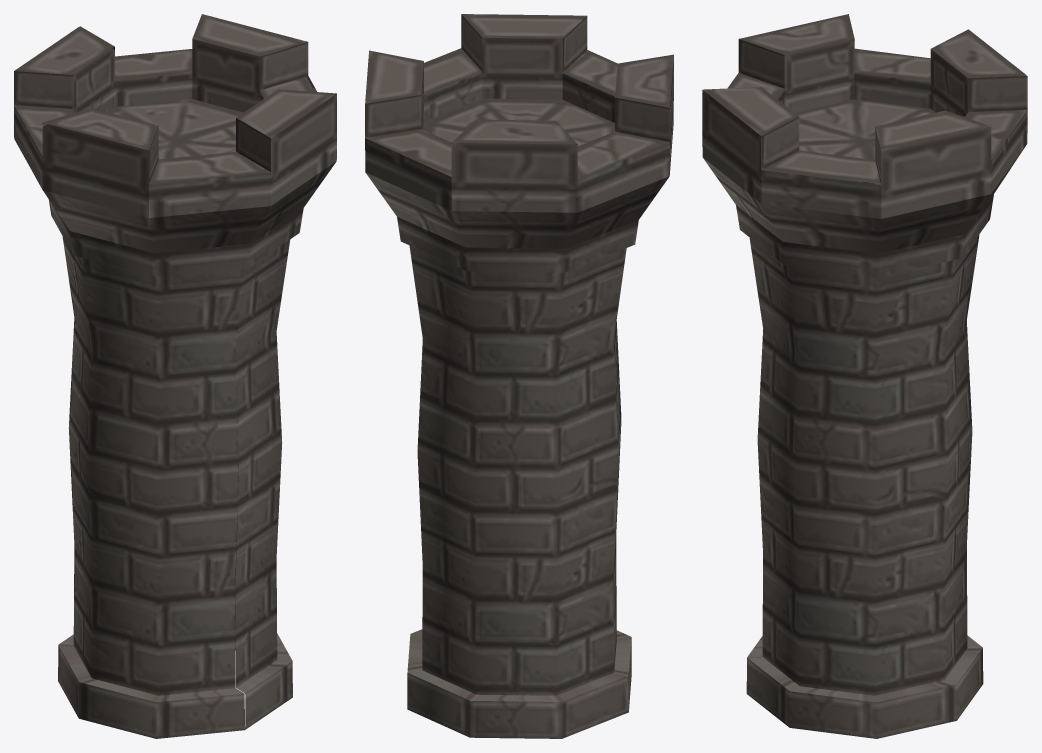
The model's file is Tower1_breakable.fbx.
The picture shows the model from 3 angles, left to right: view 1: azimuth 30°, elevation 25°; view 2: azimuth 150°, elevation 25°; view 3: azimuth 270°, elevation 25°; orthographic projection.
Parts seen in each view (by area): view 1: polySurface62; view 2: polySurface62; view 3: polySurface62.
Boxes of the visible parts, <box> form: polySurface62: <box>14,14,336,738</box>; polySurface62: <box>365,14,673,738</box>; polySurface62: <box>702,14,1027,738</box>.
Size of the model in its own units: 2.89 by 5.94 by 2.89.
